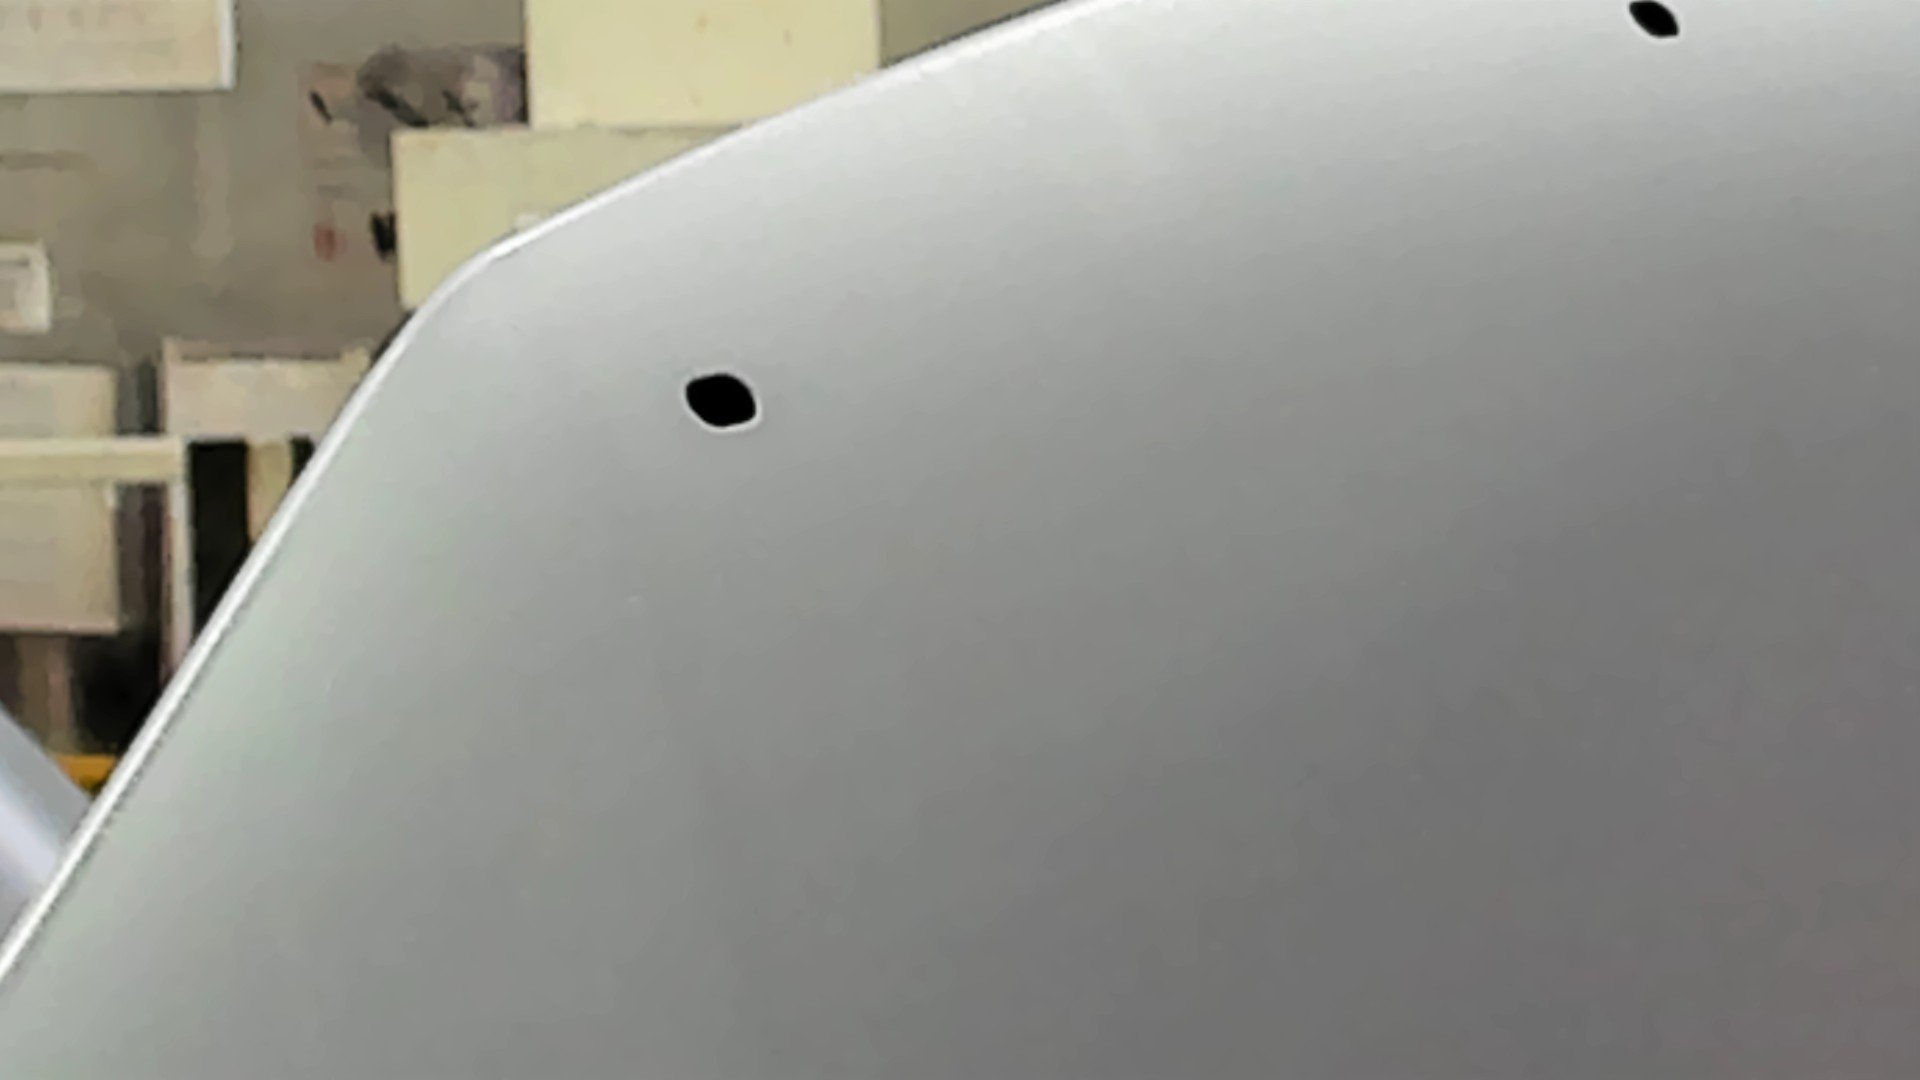amorfo: (680, 368, 765, 436), (1623, 1, 1687, 45)
